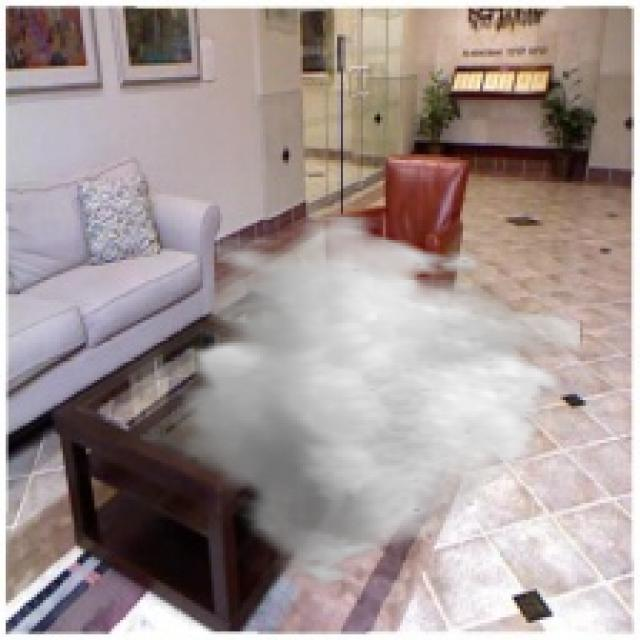smoke: (171, 215, 583, 594)
